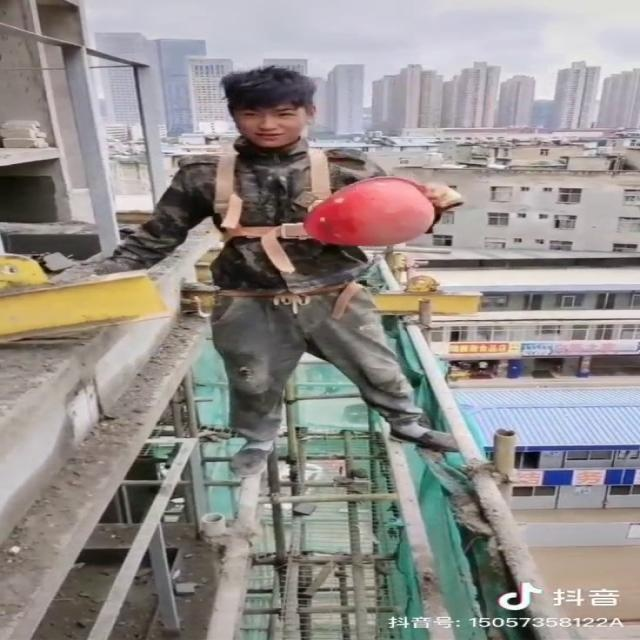Arnes_seguridad: (191, 139, 365, 271)
